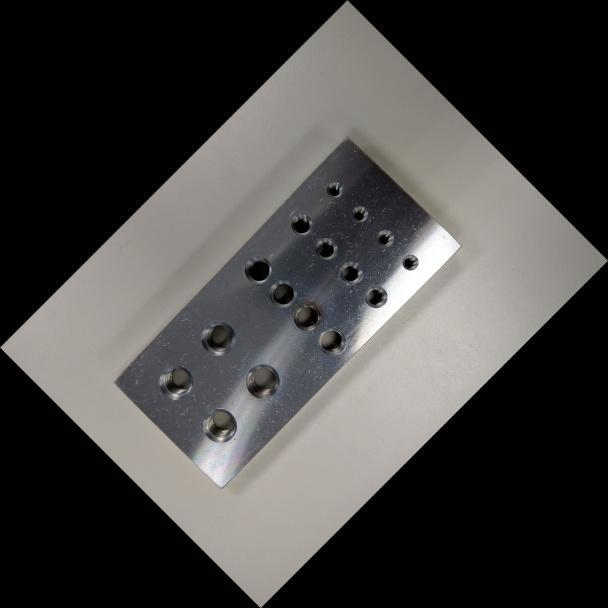hole: (236, 354, 288, 406), (150, 356, 201, 408), (192, 312, 243, 363), (195, 400, 244, 449), (262, 272, 303, 314), (237, 248, 278, 290), (311, 321, 352, 362), (287, 297, 327, 337), (308, 231, 343, 265), (359, 280, 393, 314), (333, 255, 367, 289), (284, 207, 318, 240), (371, 224, 398, 251), (321, 176, 347, 202), (397, 249, 422, 274), (347, 201, 372, 226)
